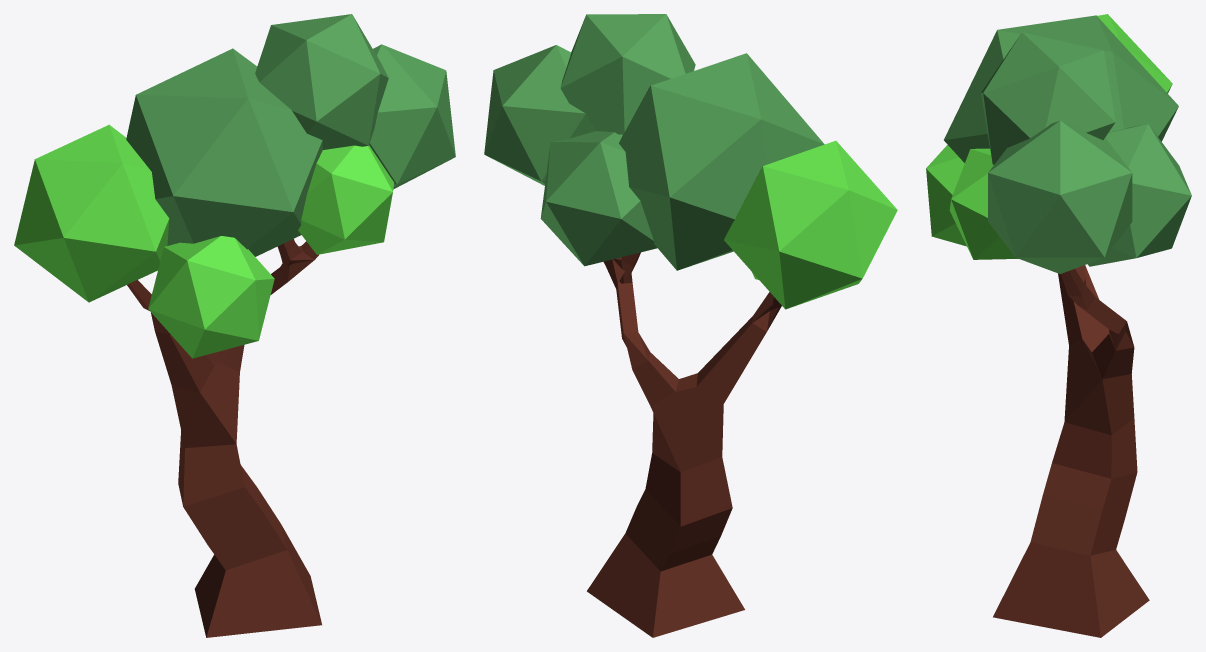
File: Tree3WithColour.fbx
3 renders of one model, left to right at view 1: azimuth 30°, elevation 25°; view 2: azimuth 150°, elevation 25°; view 3: azimuth 270°, elevation 25°, orthographic. The views are drawn at different scales.
Parts seen in each view (by area): view 1: Leaves.3, TreeTrunk.3; view 2: Leaves.3, TreeTrunk.3; view 3: Leaves.3, TreeTrunk.3.
Boxes of the visible parts, x1=… form: Leaves.3: x1=14, y1=14, x2=455, y2=358; TreeTrunk.3: x1=127, y1=239, x2=321, y2=637; Leaves.3: x1=484, y1=14, x2=897, y2=309; TreeTrunk.3: x1=587, y1=252, x2=781, y2=637; Leaves.3: x1=926, y1=14, x2=1191, y2=273; TreeTrunk.3: x1=993, y1=265, x2=1149, y2=637.
Bounding box in the file's own units: 561 × 771 × 314.
